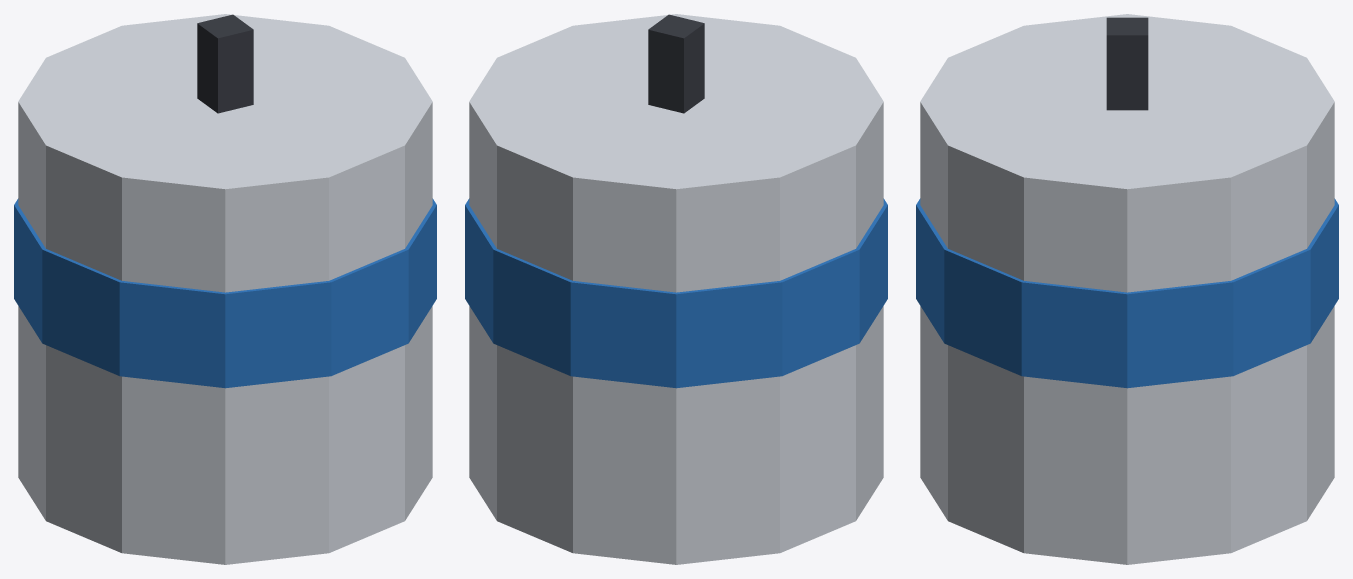
File: colony-water-tank.glb
3 renders of one model, left to right at view 1: azimuth 30°, elevation 25°; view 2: azimuth 150°, elevation 25°; view 3: azimuth 270°, elevation 25°, orthographic.
Visible parts, largest first — view 1: water_tank; view 2: water_tank; view 3: water_tank.
Part boxes in pixels (x1,y1,x2,y2): water_tank: (14,14,436,564); water_tank: (465,14,887,564); water_tank: (916,14,1338,564).
Bounding box in the file's own units: 2.04 × 2.4 × 2.04.
